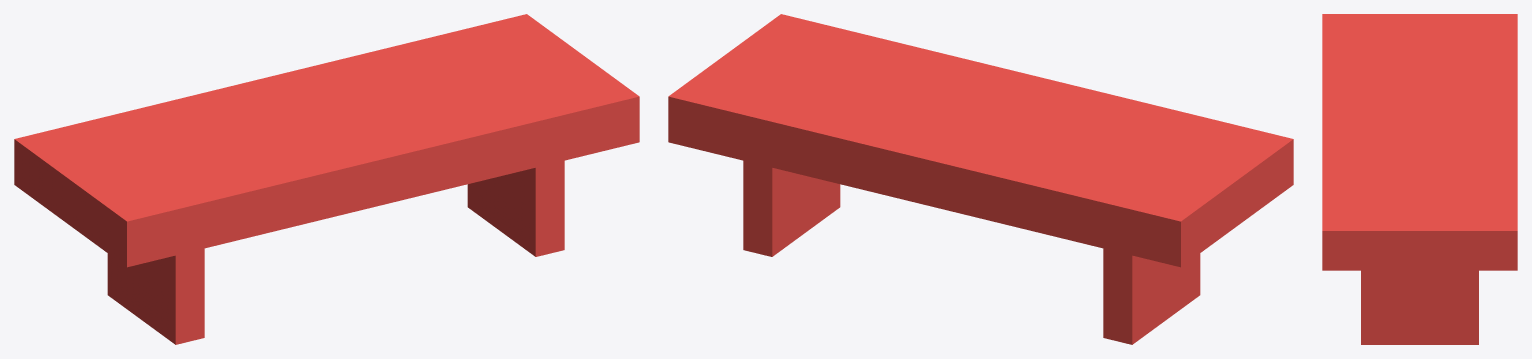
The model's file is bench_world_ap_0_lev1.glb.
3 views of the same model, side by side, from view 1: azimuth 30°, elevation 25°; view 2: azimuth 150°, elevation 25°; view 3: azimuth 270°, elevation 25° (orthographic). The views are drawn at different scales.
Parts seen in each view (by area): view 1: bench_world_ap_0_lev1; view 2: bench_world_ap_0_lev1; view 3: bench_world_ap_0_lev1.
Part boxes in pixels (x1,y1,x2,y2): bench_world_ap_0_lev1: [14, 14, 639, 344]; bench_world_ap_0_lev1: [668, 14, 1293, 344]; bench_world_ap_0_lev1: [1322, 14, 1517, 344].
Size of the model in its own units: 0.6356 by 0.1861 by 0.2422.
1 material, 1 textured.
